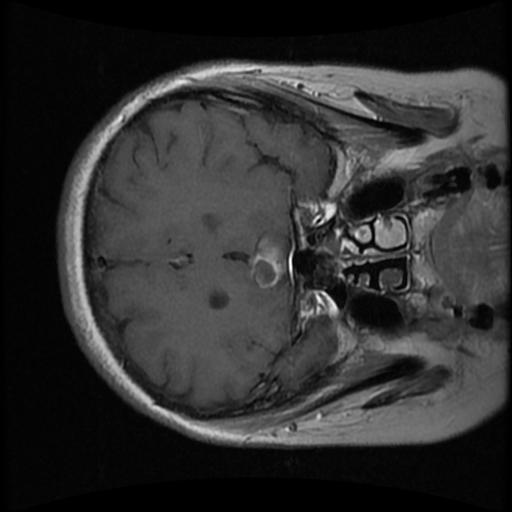pituitary tumour: (250, 233, 286, 289)
